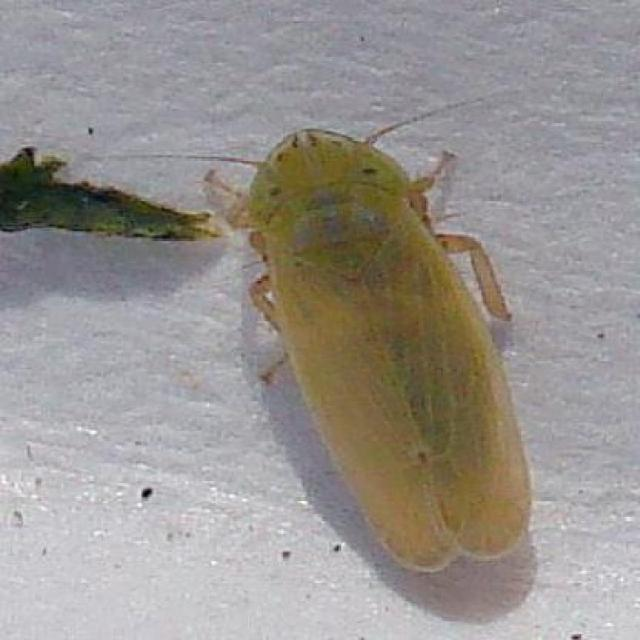green-leafhopper: (198, 128, 532, 572)
